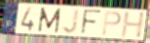4: (20, 6, 36, 32)
F: (80, 8, 103, 36)
H: (120, 11, 146, 39)
J: (61, 8, 81, 35)
M: (38, 7, 62, 34)
P: (101, 10, 122, 37)
